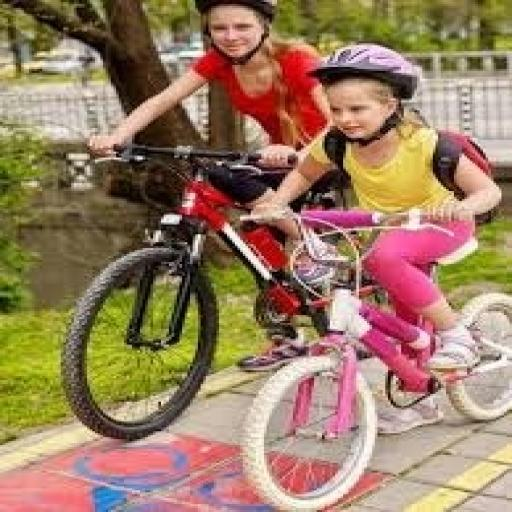cycling: (85, 0, 343, 374), (240, 41, 507, 378)
